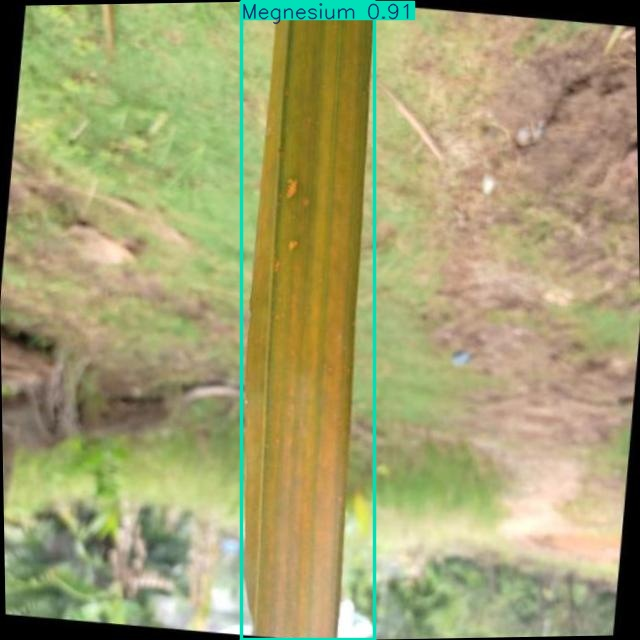Megnesium: (242, 1, 374, 640)
